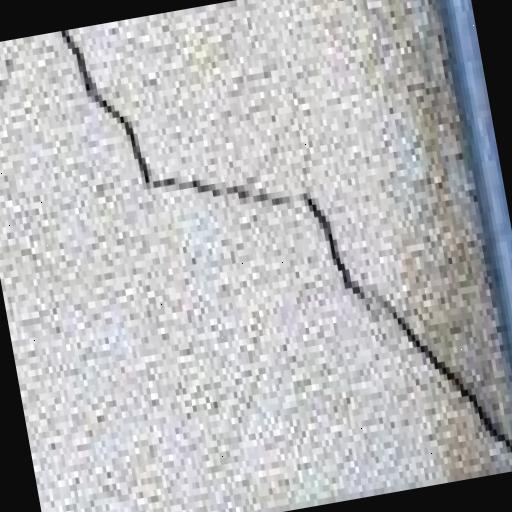spalling: (53, 33, 512, 465)
